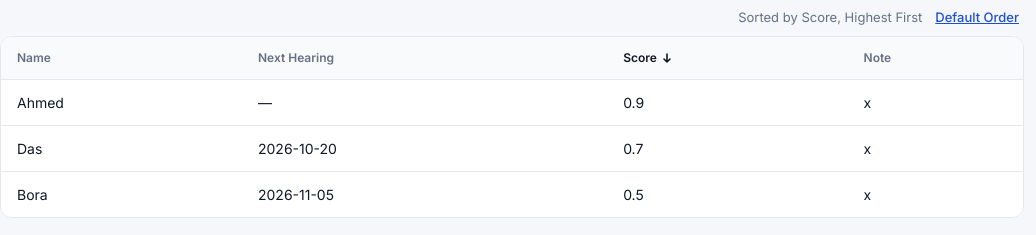
Test: the phone Sort By select (decision 33) › Default Order on the order line returns to the default
Expected: the text "Sorted by Score, Highest First Default Order" is shown, left=738, top=8, right=1024, bottom=28
What coordinates should you click on to do the following:
click the button "Default Order"
I would click on:
 (977, 18)
Its box is left=930, top=9, right=1024, bottom=27.
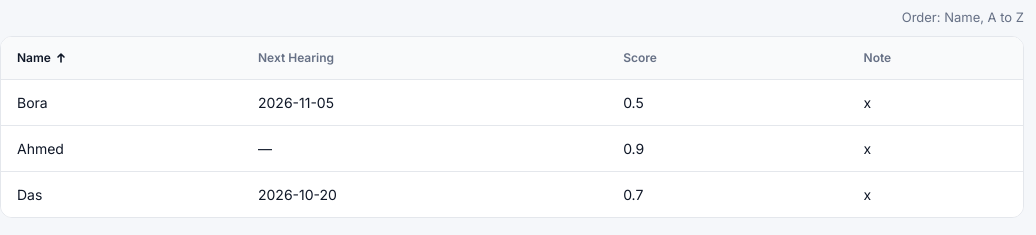
Now the text "Order: Name, A to Z" is shown, box left=902, top=8, right=1024, bottom=28
